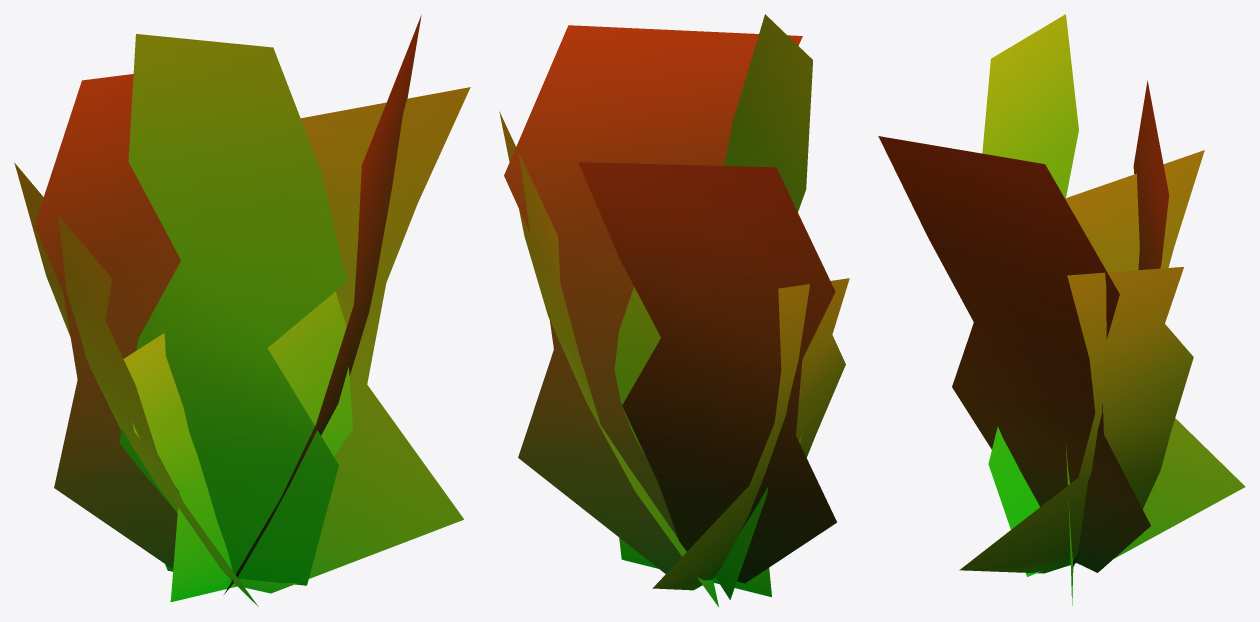
File: Var8Hi35.fbx
3 views of the same model, side by side, from view 1: azimuth 30°, elevation 25°; view 2: azimuth 150°, elevation 25°; view 3: azimuth 270°, elevation 25° (orthographic). The views are drawn at different scales.
Visible parts, largest first — view 1: bend1; view 2: bend1; view 3: bend1.
Boxes of the visible parts, x1,y1,x2,y2 form: bend1: [14, 15, 470, 606]; bend1: [499, 14, 849, 606]; bend1: [878, 14, 1245, 605].
Bounding box in the file's own units: 1.27 × 1.77 × 1.16.
